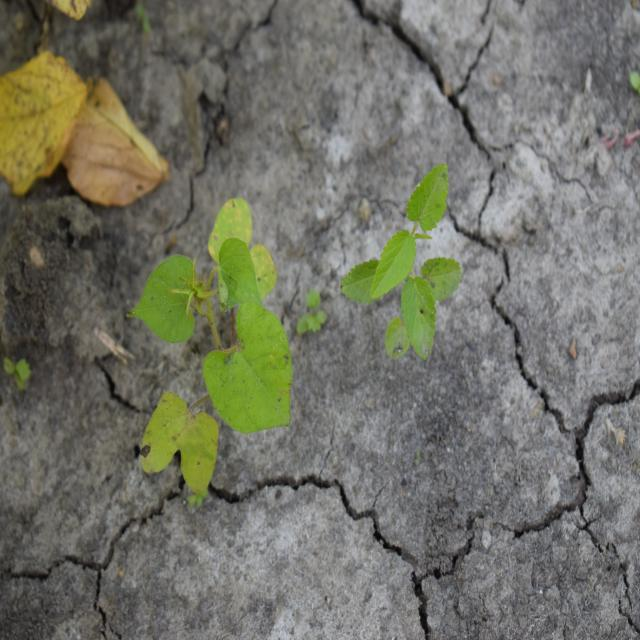MorningGlory: (125, 197, 294, 498)
PricklySida: (340, 160, 464, 360)
